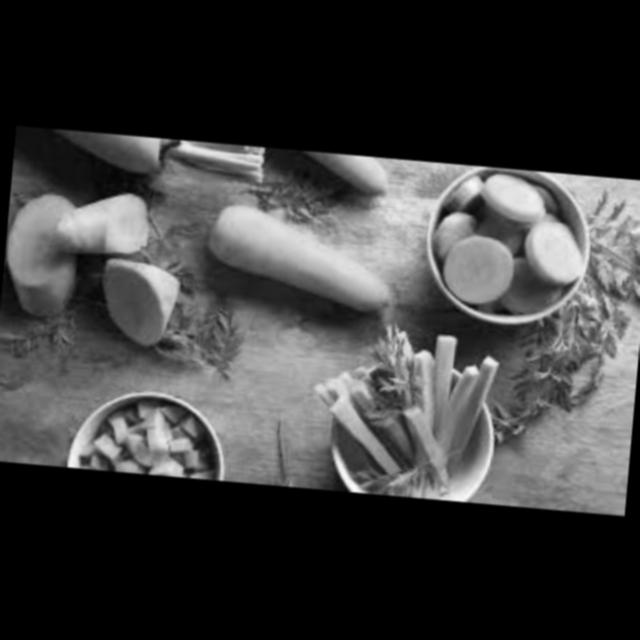ca rot: (325, 331, 505, 501), (200, 193, 398, 315), (451, 170, 585, 296), (90, 248, 194, 357), (83, 400, 223, 480), (0, 186, 78, 328), (53, 178, 169, 264), (46, 127, 169, 176), (306, 150, 396, 203)
